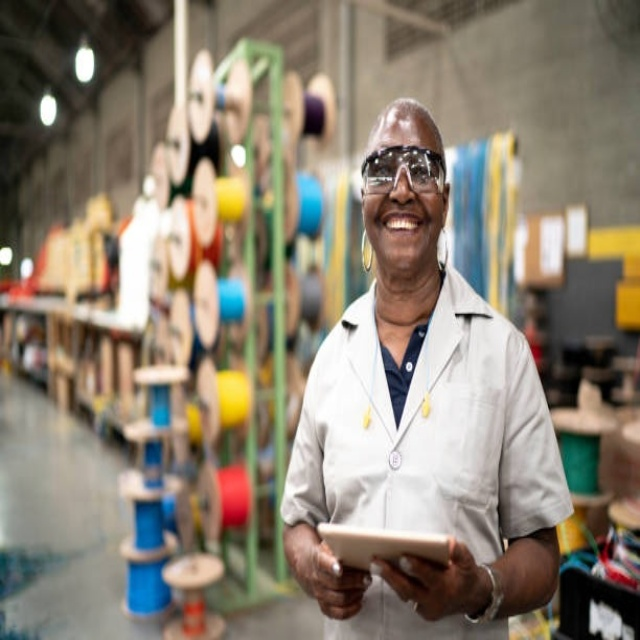Gafas: (360, 145, 447, 195)
Sin_guantes: (373, 532, 483, 624), (299, 533, 373, 620)
Sin_mascara: (373, 202, 427, 259)
